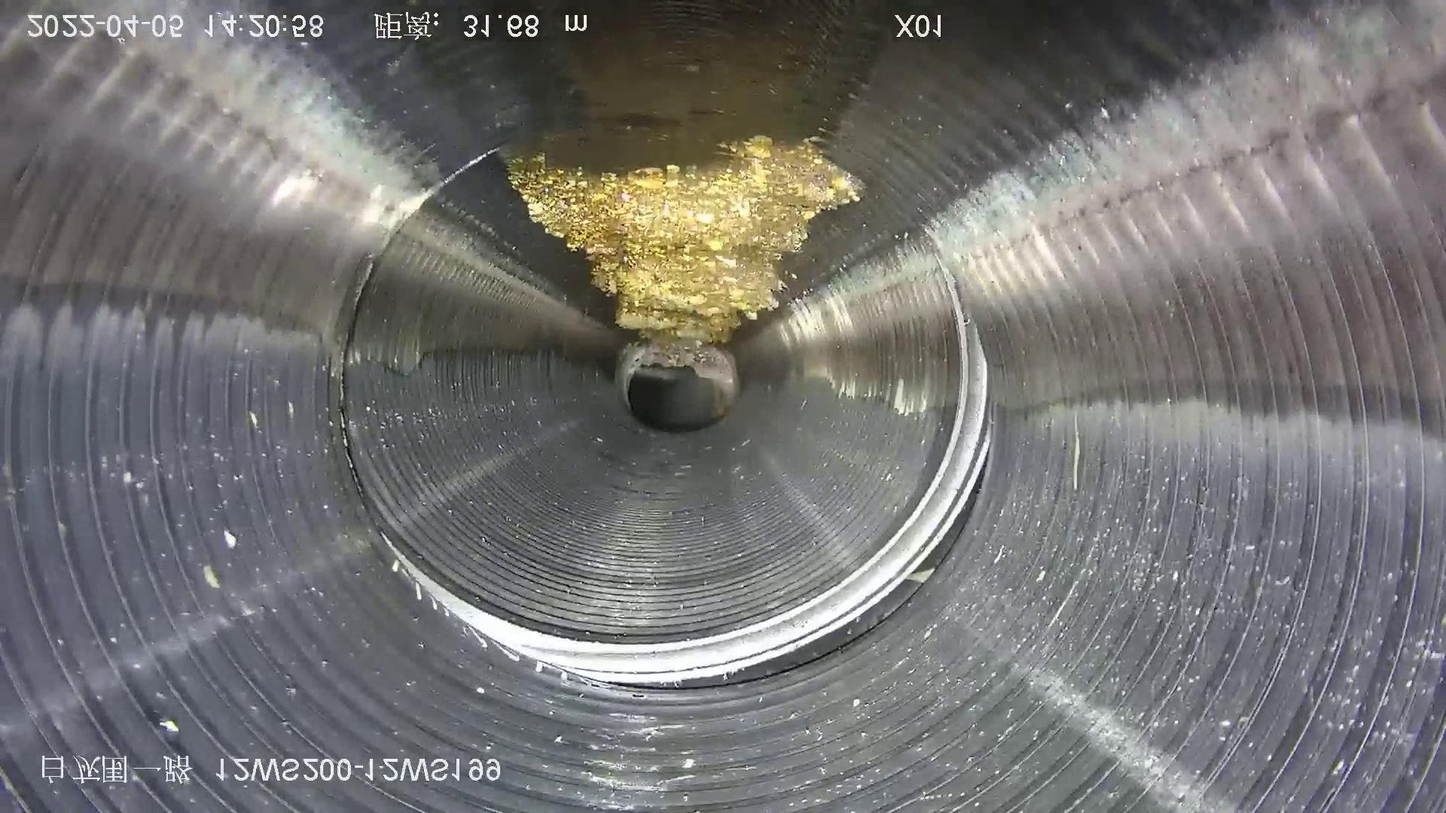CJ: (508, 136, 858, 367)
CKTJ: (391, 320, 988, 690)
